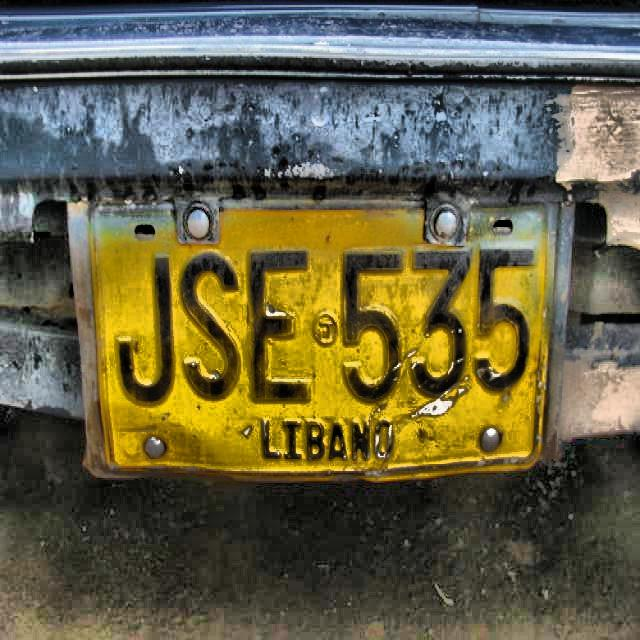plate: (83, 201, 562, 472)
